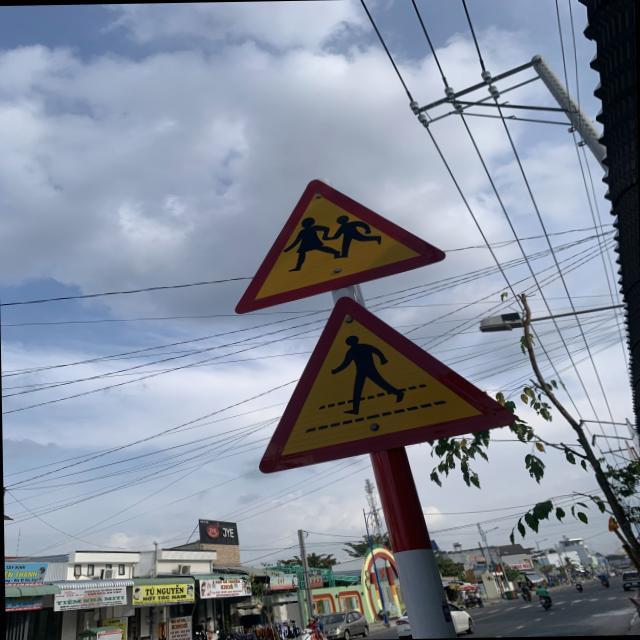Duong_Nguoi_Di_Bo_Sang_Ngang: (255, 294, 513, 472)
Vong_Xuyen: (230, 175, 450, 314)
